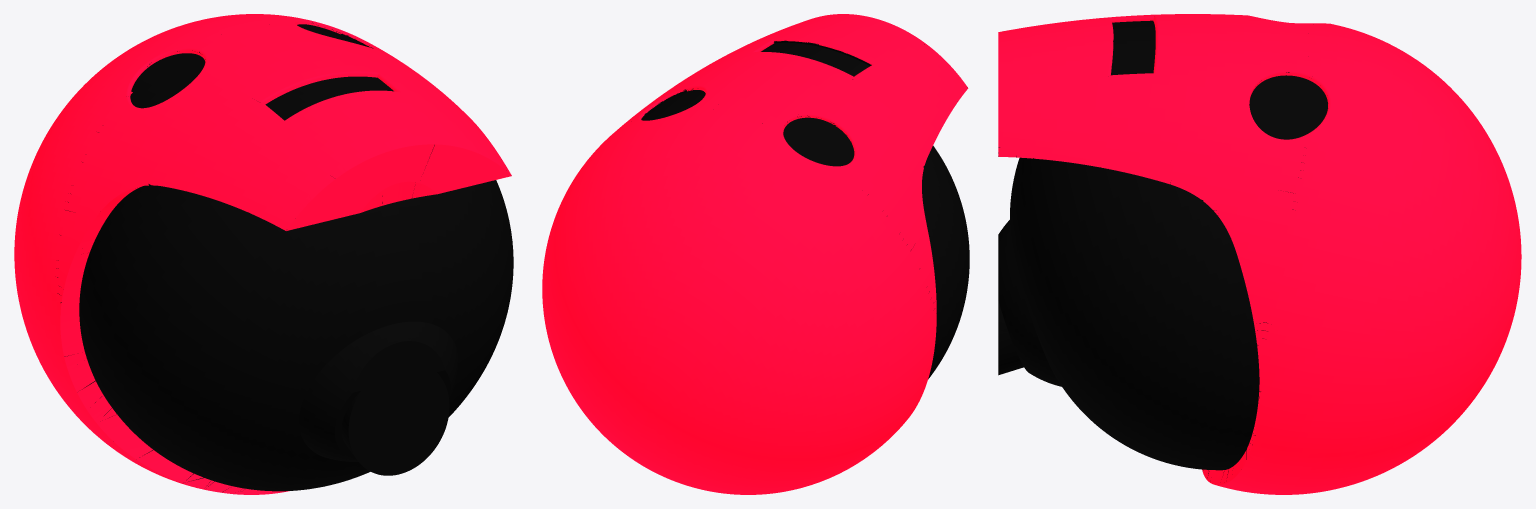
3 renders of one model, left to right at view 1: azimuth 30°, elevation 25°; view 2: azimuth 150°, elevation 25°; view 3: azimuth 270°, elevation 25°, orthographic. The views are drawn at different scales.
Parts seen in each view (by area): view 1: robert; view 2: robert; view 3: robert.
Boxes of the visible parts, x1,y1,x2,y2 form: robert: (14,14,513,494); robert: (542,14,969,494); robert: (998,14,1521,494).
Bounding box in the file's own units: 0.9953 × 1.09 × 1.01.
